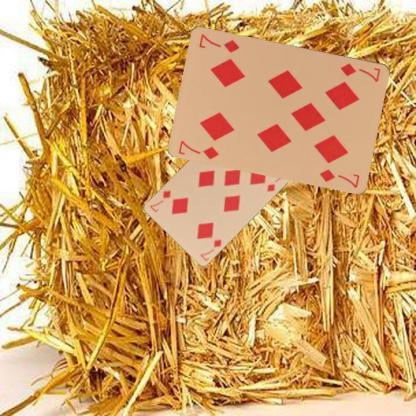7d: (338, 60, 382, 83), (176, 138, 220, 160), (197, 236, 222, 262)
